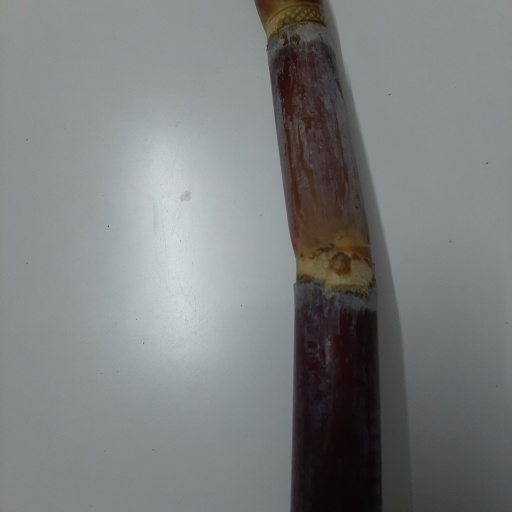Bud: (326, 252, 353, 276)
